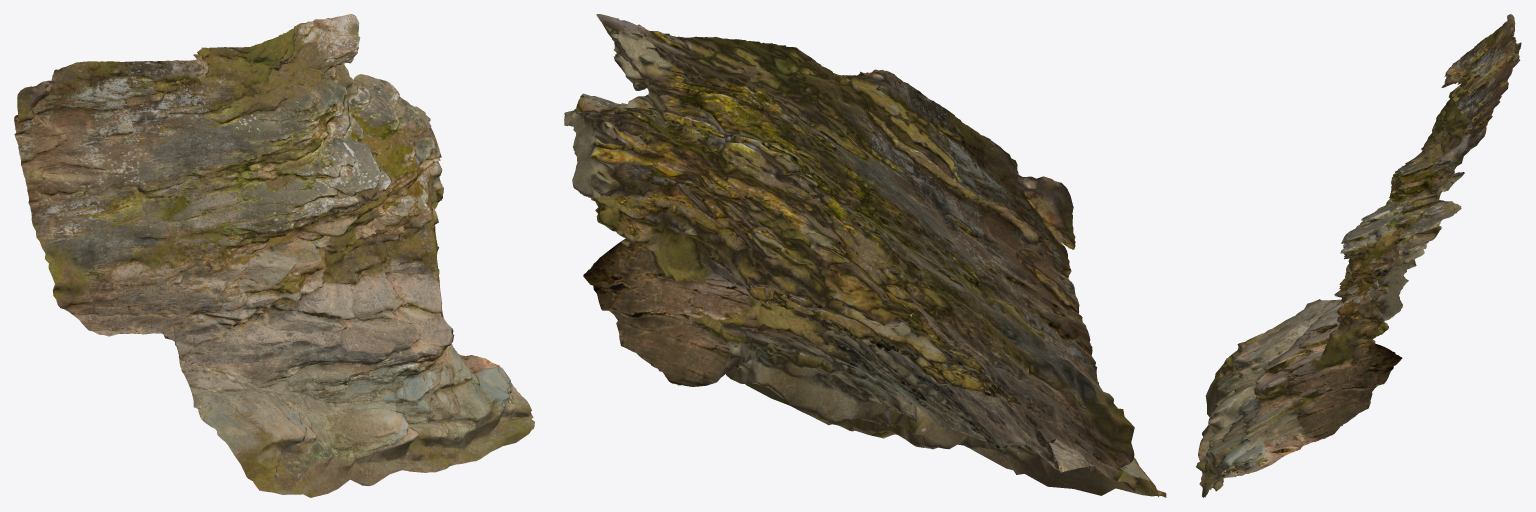
3 views of the same model, side by side, from view 1: azimuth 30°, elevation 25°; view 2: azimuth 150°, elevation 25°; view 3: azimuth 270°, elevation 25° (orthographic). The views are drawn at different scales.
Parts seen in each view (by area): view 1: rock_face_02; view 2: rock_face_02; view 3: rock_face_02.
Boxes of the visible parts, <box> form: rock_face_02: <box>14,14,534,497</box>; rock_face_02: <box>564,14,1166,497</box>; rock_face_02: <box>1196,14,1521,497</box>.
Size of the model in its own units: 2.71 by 2.47 by 2.13.
Materials: 1 (1 with a texture image).
